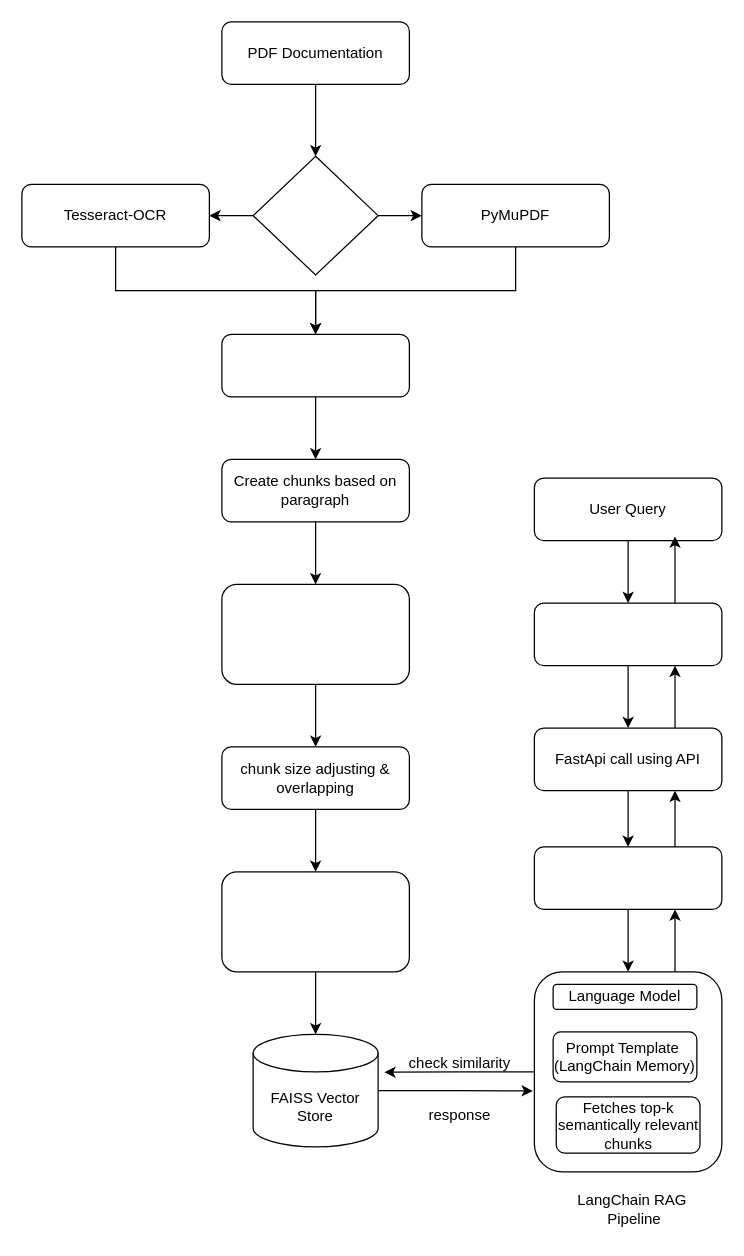
The diagram is 744 pixels wide and 1256 high, and some of its shapes have lost their labels. The centre of each missing label's shape, as x and y in pixels:
"chunks Cleaning (Extra spaces, unwanted words, characters, symbols & numbers)" goes at point (315, 633).
"create embeddings of that query" goes at point (627, 877).
"IsTableData?" goes at point (315, 215).
"Multilingual Embeddings (intfloat/multilingual-e5-small)" goes at point (315, 921).
"streamlit App (Frontend)" goes at point (627, 634).
"Text Extracted" goes at point (315, 365).
